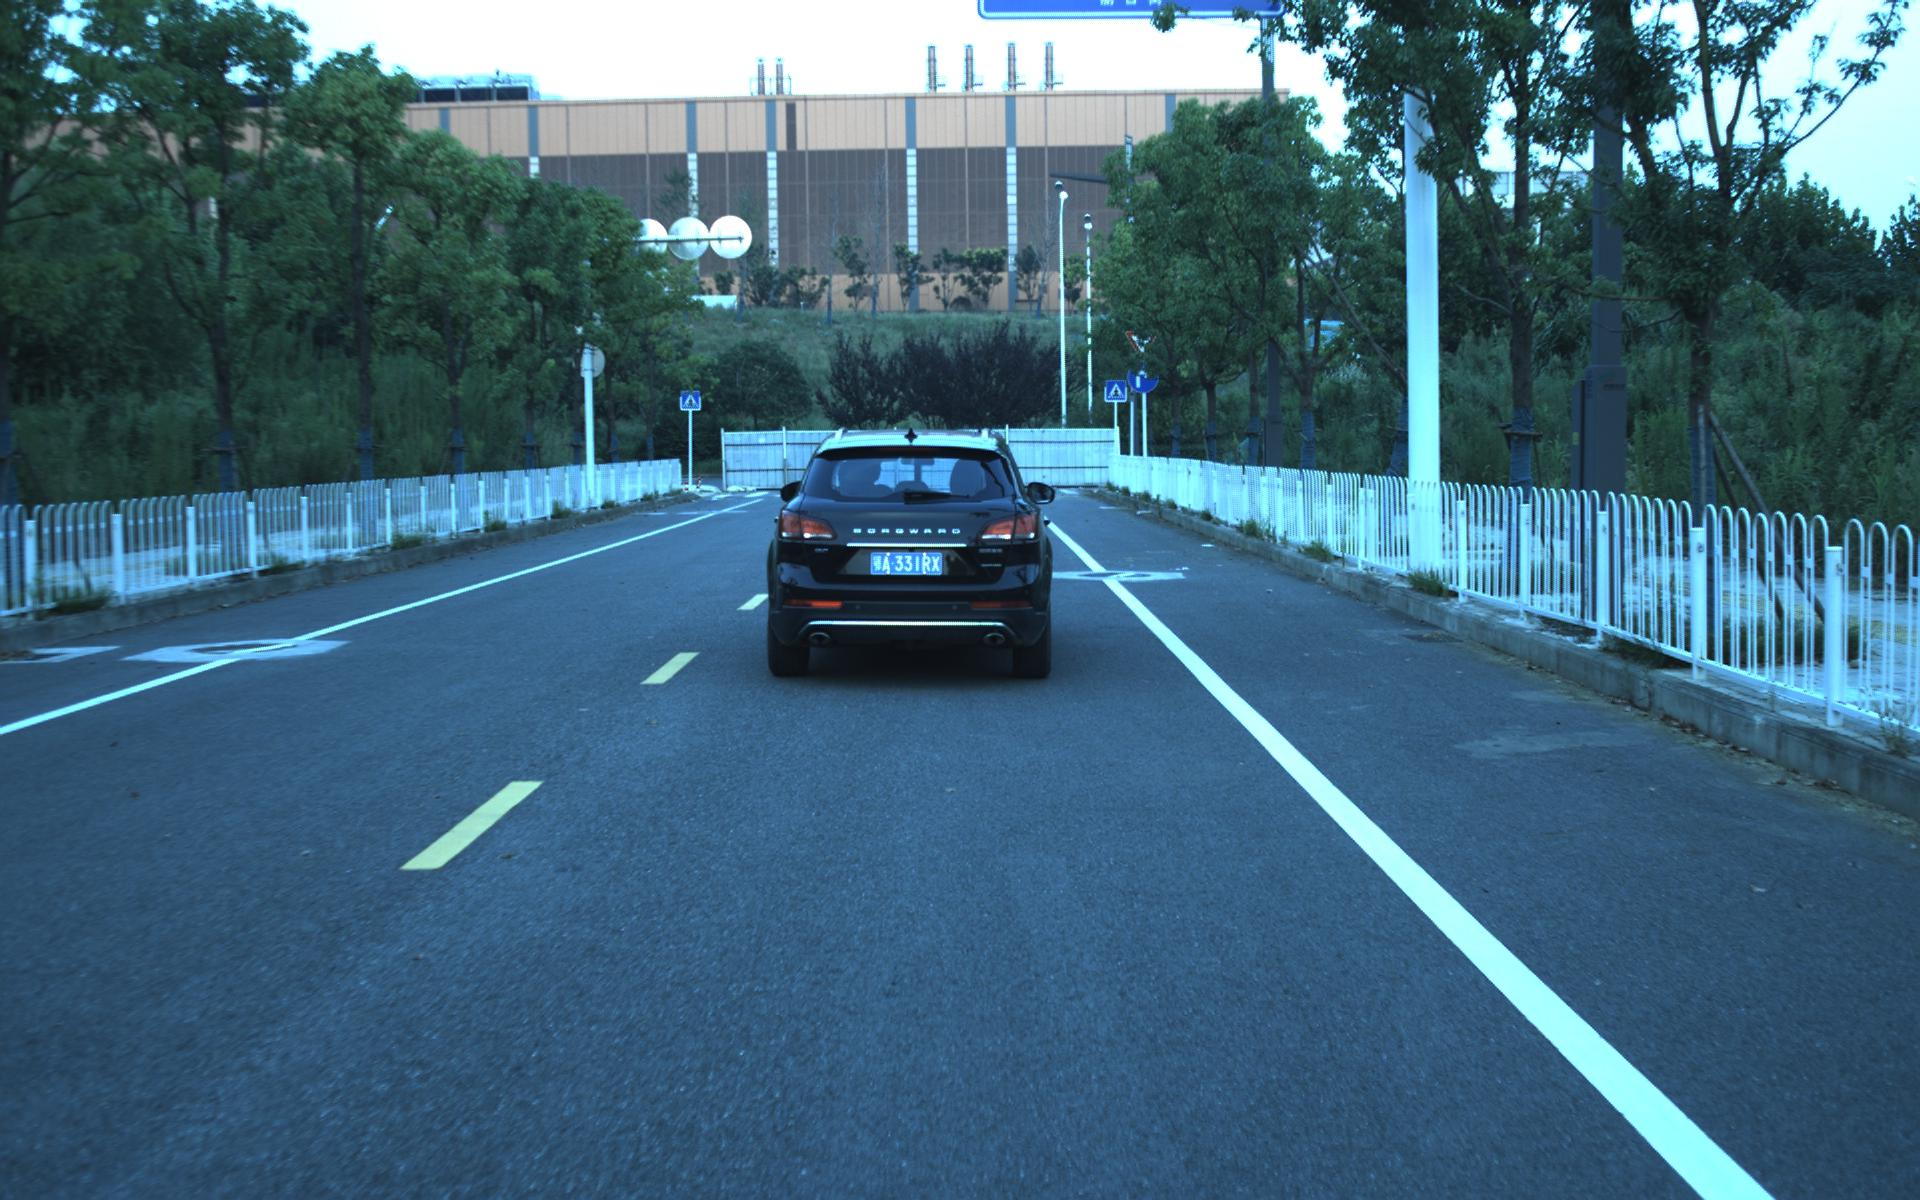Car: (764, 422, 1055, 680)
